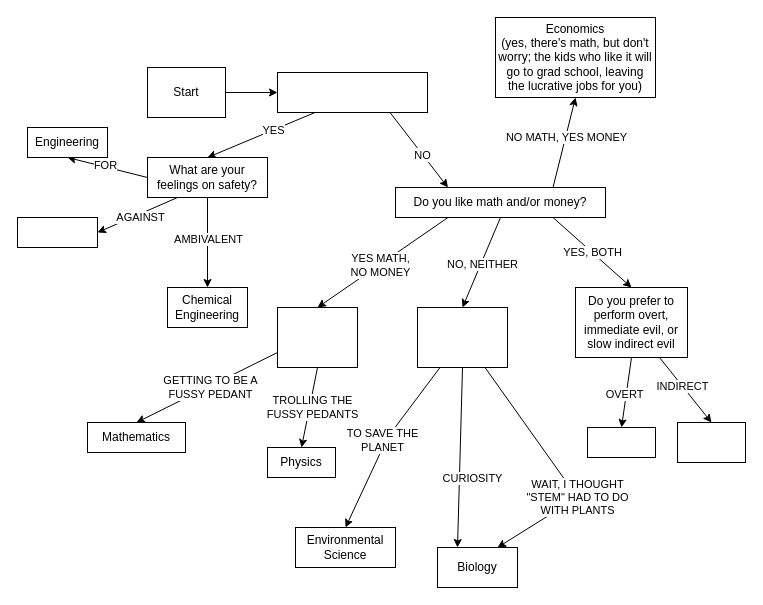
Image size: 763x605. Some labels were removed from this diagram. The centre of each missing label's shape, as x and y in pixels:
"Are you good with things? Like, physical objects?" belongs at [352,92].
"Chemistry" belongs at [57,232].
"Computer Science" belongs at [711,442].
"Finance" belongs at [621,442].
"So, why do you want to major in a STEM field?" belongs at [462,337].
"What exactly do you enjoy about math?" belongs at [317,337].
